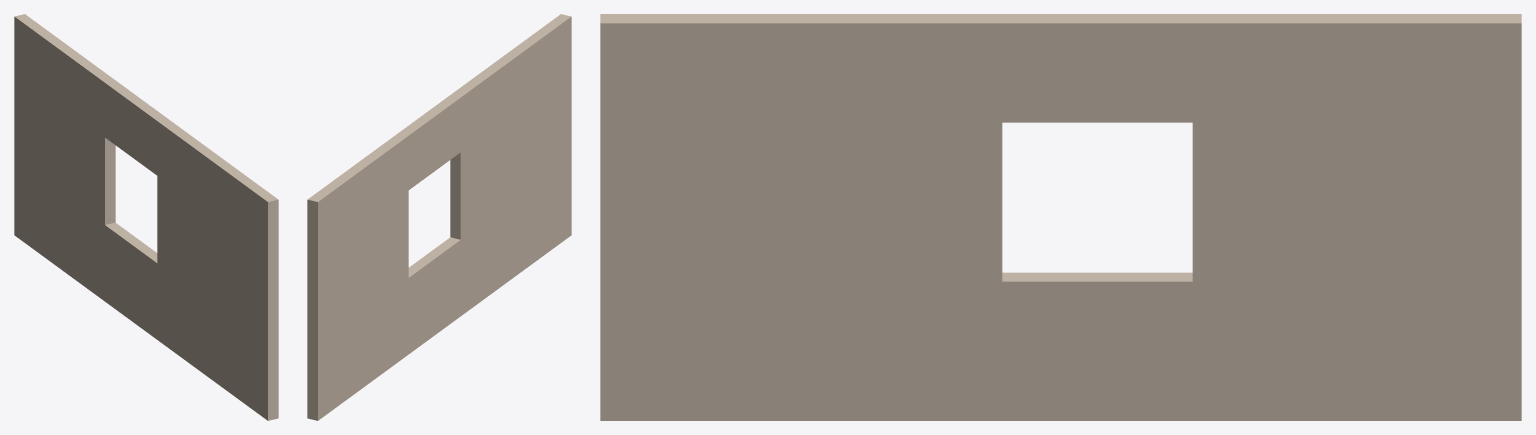
The model's file is Room02_wall4.gltf.
3 renders of one model, left to right at view 1: azimuth 30°, elevation 25°; view 2: azimuth 150°, elevation 25°; view 3: azimuth 270°, elevation 25°, orthographic. The views are drawn at different scales.
Size of the model in its own units: 3 by 60 by 126.
